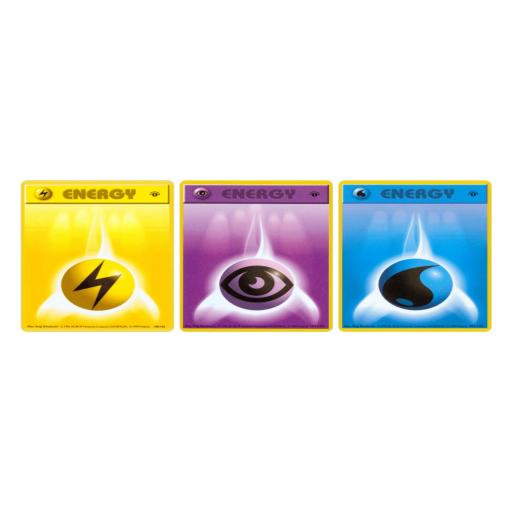card: (20, 180, 175, 332), (337, 180, 492, 332), (179, 180, 333, 332)
